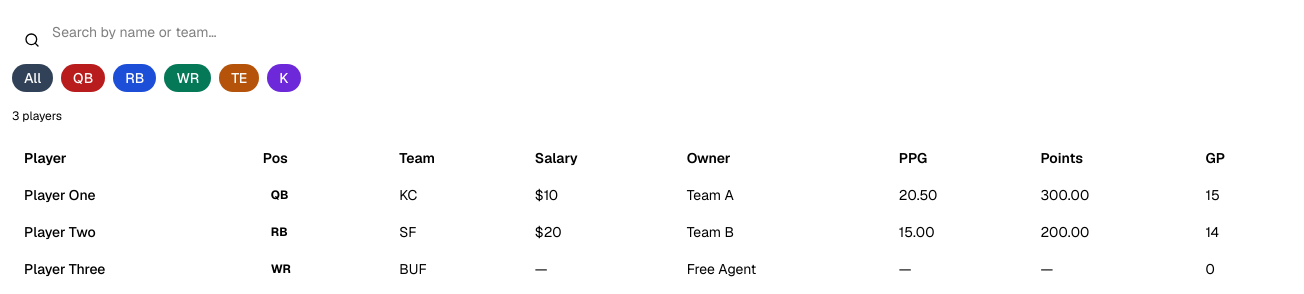
PlayerSearch › filters by name
Type "One" into the field. click: (652,32)
box: [12, 12, 1292, 52]
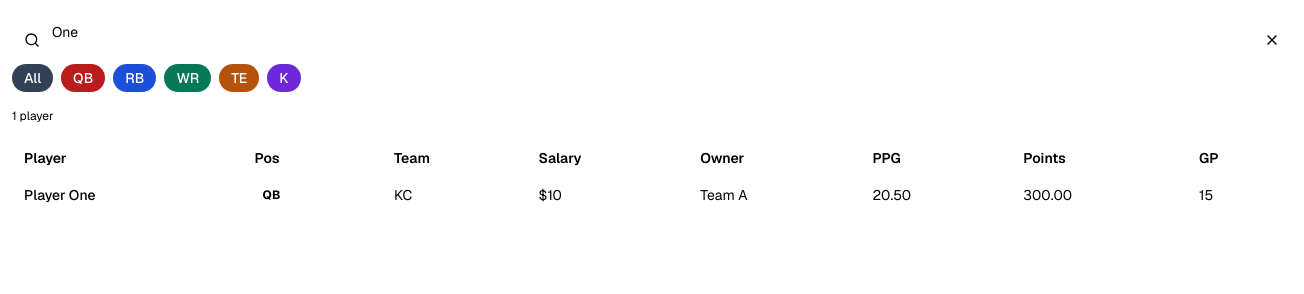
Expected: the link "Player One" is shown, [24, 186, 96, 204]
Expected: the link "Player Two" is gone
